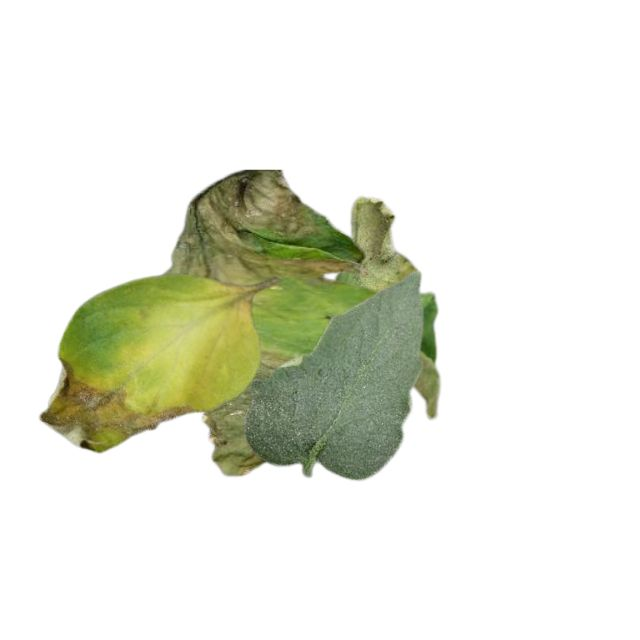Late_blight: (162, 167, 365, 289), (40, 356, 196, 452), (352, 191, 418, 291), (206, 406, 266, 477), (225, 346, 292, 406), (418, 350, 441, 418)
